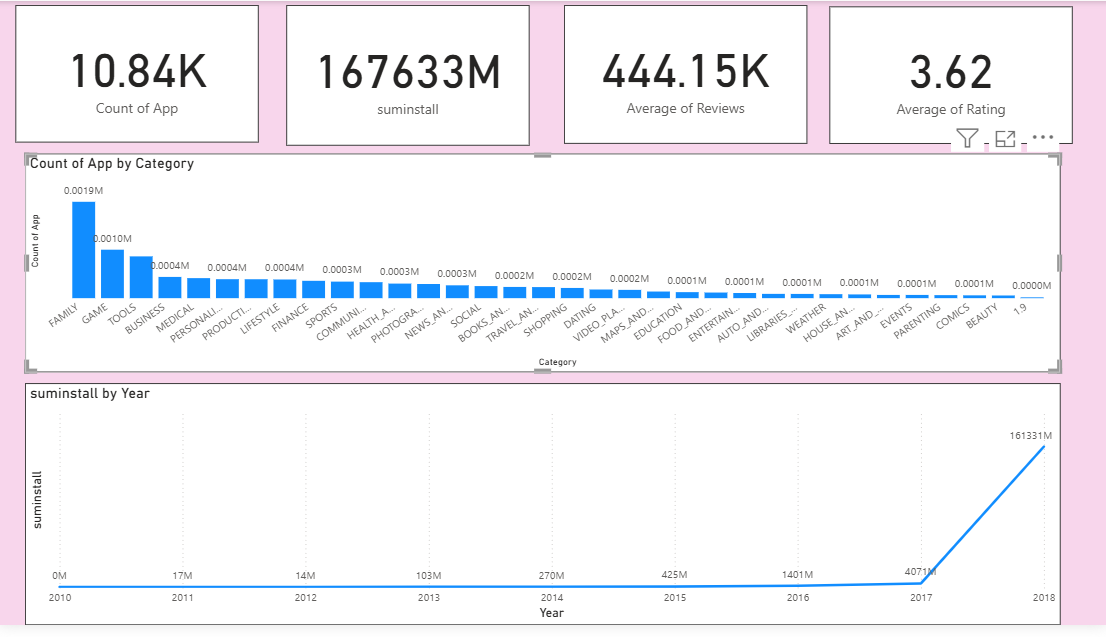

What the dashboard file says about the page in this screenshot:
{"tool":"powerbi","page":{"name":"Page 4","canvas":[1280,720],"ordinal":0},"visuals":[{"type":"card","fields":{"Values":["CountNonNull(googleplaystore.App)"]},"box":[21,0,280.4,159.6],"z":0},{"type":"card","fields":{"Values":["googleplaystore.suminstall"]},"box":[333.6,1.6,280.4,161.2],"z":1000},{"type":"card","fields":{"Values":["Avg(googleplaystore.Reviews)"]},"box":[639.9,1.6,280.4,159.6],"z":2000},{"type":"card","fields":{"Values":["Avg(googleplaystore.Rating)"]},"box":[959,0,280.4,159.6],"z":3000},{"type":"clusteredColumnChart","fields":{"Category":["googleplaystore.Category"],"Y":["Count(googleplaystore.App)"]},"box":[30.6,162.8,1249.1,285.3],"z":4000},{"type":"lineChart","fields":{"Category":["googleplaystore.Last Updated.Variation.Date Hierarchy.Year","googleplaystore.Last Updated.Variation.Date Hierarchy.Month"],"Y":["googleplaystore.suminstall"]},"box":[30.6,448.1,1249.1,272.4],"z":5000}]}

Visuals, with their boxes in screenshot pixels (x1, y1, x2, y2), scaled from the page's 1280x720 canvas onto the 1106x637 screenshot:
card - CountNonNull(googleplaystore.App): left=18, top=0, right=260, bottom=141
card - googleplaystore.suminstall: left=288, top=1, right=531, bottom=144
card - Avg(googleplaystore.Reviews): left=553, top=1, right=795, bottom=143
card - Avg(googleplaystore.Rating): left=829, top=0, right=1071, bottom=141
clusteredColumnChart - googleplaystore.Category x Count(googleplaystore.App): left=26, top=144, right=1105, bottom=396
lineChart - googleplaystore.Last Updated.Variation.Date Hierarchy.Year x googleplaystore.Last Updated.Variation.Date Hierarchy.Month: left=26, top=396, right=1105, bottom=636
